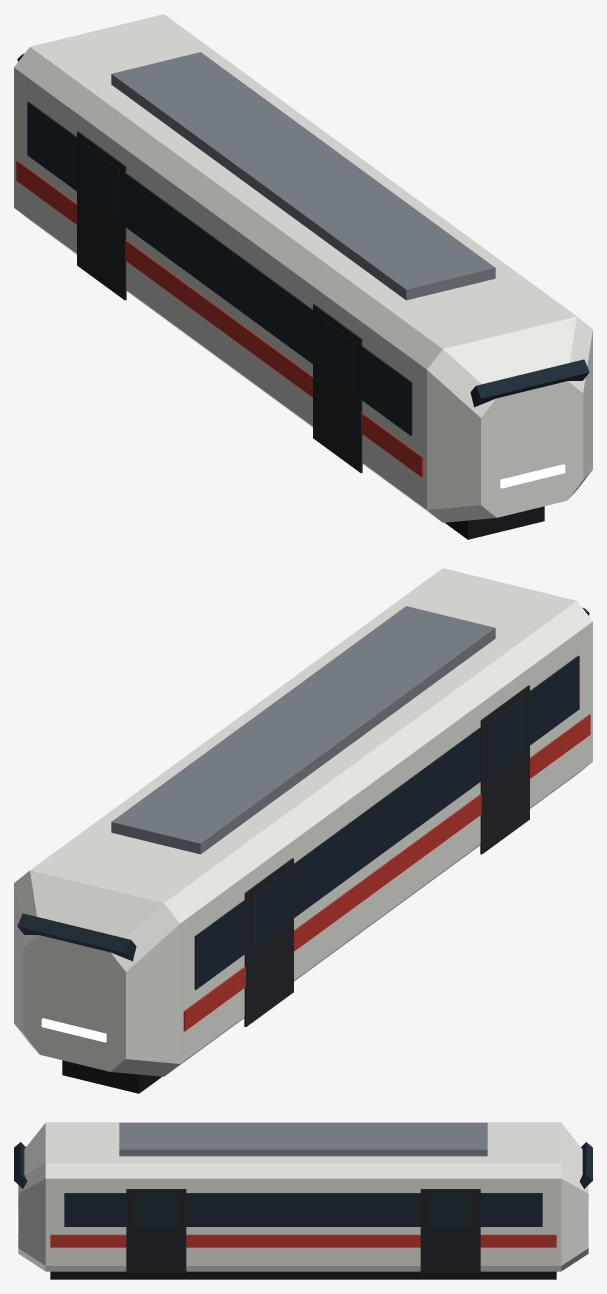
The model's file is monorail.glb.
3 renders of one model, top to bottom at view 1: azimuth 30°, elevation 25°; view 2: azimuth 150°, elevation 25°; view 3: azimuth 270°, elevation 25°, orthographic. The views are drawn at different scales.
Parts seen in each view (by area): view 1: monorail_Body; view 2: monorail_Body; view 3: monorail_Body.
Part boxes in pixels (<box>): monorail_Body: <box>14,14,592,539</box>; monorail_Body: <box>14,568,592,1093</box>; monorail_Body: <box>14,1122,592,1279</box>.
Bounding box in the file's own units: 2.66 × 3.16 × 12.58.
